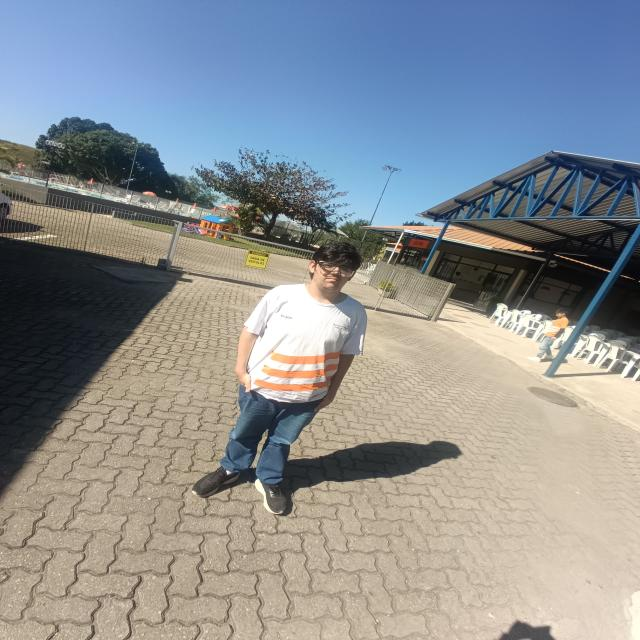oculos-epi: (317, 262, 355, 278)
